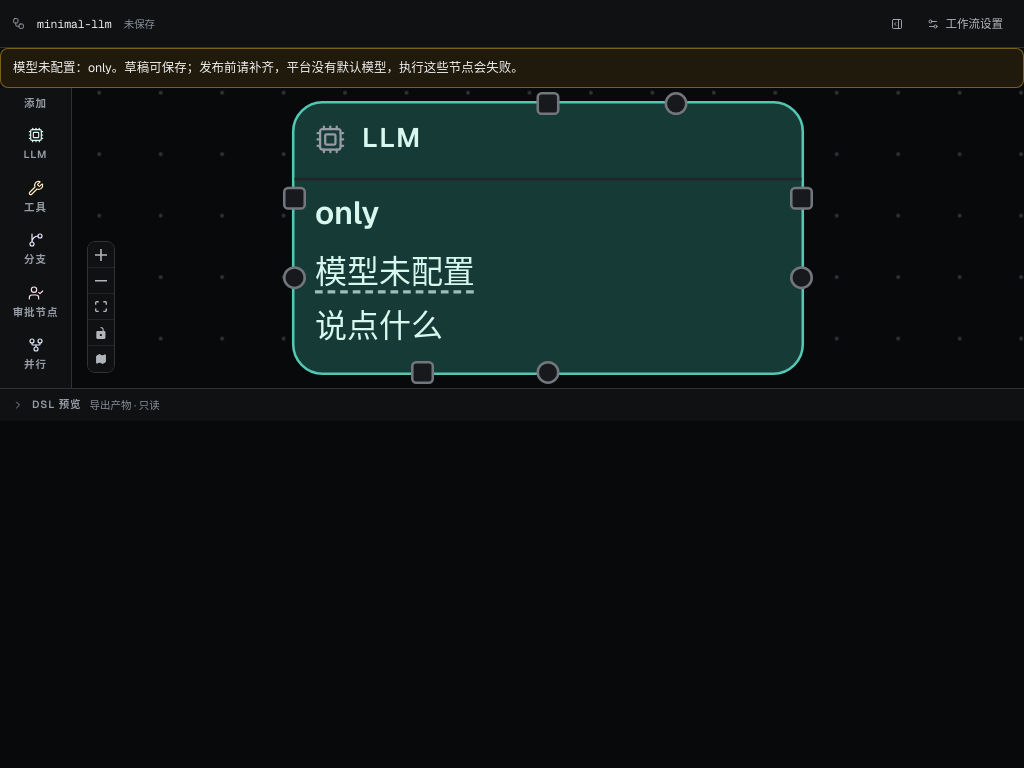
Test: CanvasEditor(画布 UI) › 面板收起时点「工作流设置」先把面板放回来(否则像没反应)
Click the button "工作流设置" at (965, 24), box left=918, top=10, right=1012, bottom=36
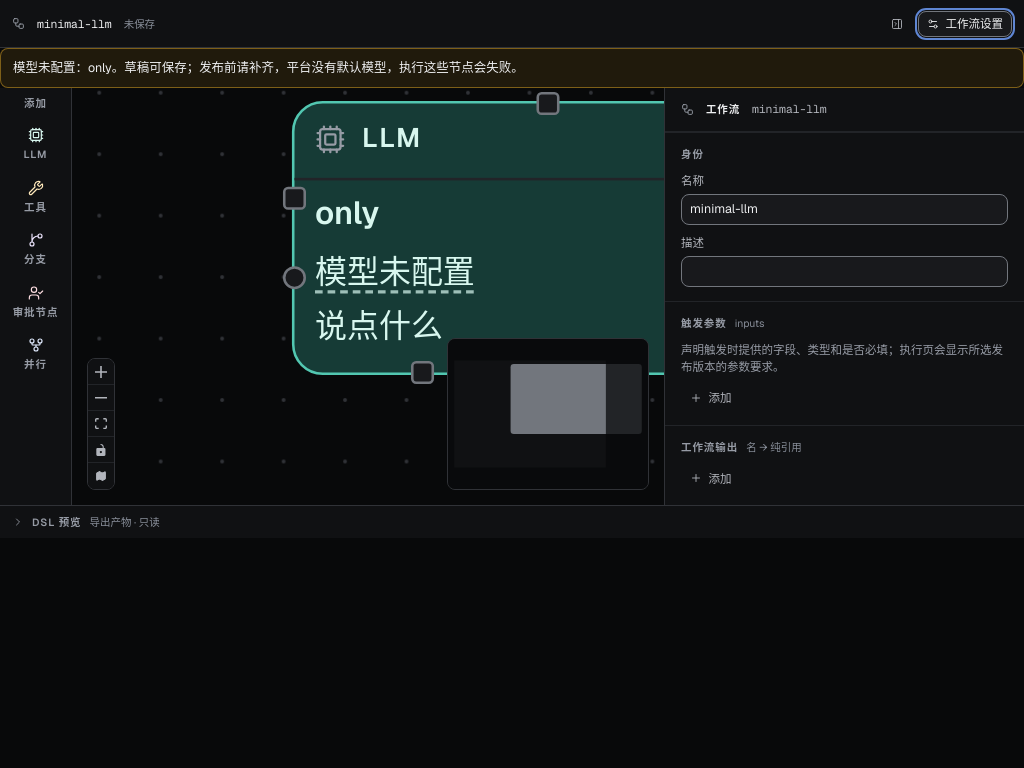
Result: the element named "属性面板" is shown at left=664, top=88, right=1023, bottom=505
Result: the heading "身份" is shown at left=681, top=147, right=704, bottom=163
